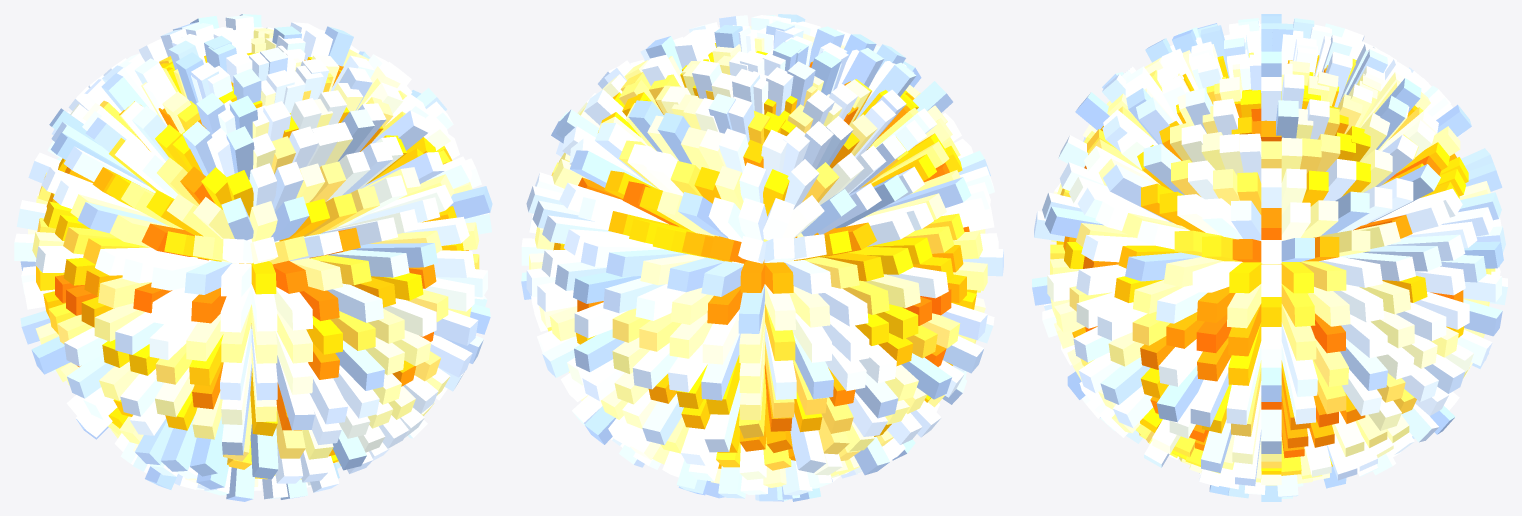
File: 無標題.glb
3 renders of one model, left to right at view 1: azimuth 30°, elevation 25°; view 2: azimuth 150°, elevation 25°; view 3: azimuth 270°, elevation 25°, orthographic.
Visible parts, largest first — view 1: 物件_343, 物件_344, 物件_46, 物件_286, 物件_431, 物件_226, 物件_26, 物件_38, 物件_345, 物件_98, 物件_194, 物件_506 (+164 smaller); view 2: 物件_128, 物件_49, 物件_88, 物件_375, 物件_224, 物件_57, 物件_504, 物件_240, 物件_437, 物件_18, 物件_217, 物件_379 (+160 smaller); view 3: 物件_698, 物件_678, 物件_626, 物件_692, 物件_655, 物件_697, 物件_686, 物件_687, 物件_704, 物件_716, 物件_587, 物件_603 (+149 smaller).
Part boxes in pixels (bbox=[...]): 物件_343: bbox=[335, 340, 384, 390]; 物件_344: bbox=[327, 283, 383, 322]; 物件_46: bbox=[149, 313, 197, 359]; 物件_286: bbox=[309, 365, 347, 424]; 物件_431: bbox=[328, 250, 409, 277]; 物件_226: bbox=[276, 355, 314, 430]; 物件_26: bbox=[115, 312, 163, 354]; 物件_38: bbox=[120, 369, 163, 416]; 物件_345: bbox=[333, 365, 379, 418]; 物件_98: bbox=[160, 414, 196, 471]; 物件_194: bbox=[250, 424, 278, 479]; 物件_506: bbox=[383, 298, 436, 336]; 物件_128: bbox=[790, 412, 826, 472]; 物件_49: bbox=[822, 315, 869, 361]; 物件_88: bbox=[793, 334, 833, 399]; 物件_375: bbox=[642, 393, 683, 444]; 物件_224: bbox=[701, 333, 740, 400]; 物件_57: bbox=[818, 286, 868, 326]; 物件_504: bbox=[574, 329, 624, 371]; 物件_240: bbox=[704, 380, 740, 452]; 物件_437: bbox=[606, 249, 688, 276]; 物件_18: bbox=[901, 353, 951, 399]; 物件_217: bbox=[702, 309, 739, 364]; 物件_379: bbox=[632, 343, 677, 389]; 物件_698: bbox=[1190, 358, 1230, 427]; 物件_678: bbox=[1156, 365, 1203, 422]; 物件_626: bbox=[1100, 357, 1150, 404]; 物件_692: bbox=[1340, 339, 1387, 390]; 物件_655: bbox=[1125, 252, 1201, 281]; 物件_697: bbox=[1341, 314, 1387, 358]; 物件_686: bbox=[1158, 339, 1202, 386]; 物件_687: bbox=[1156, 285, 1207, 323]; 物件_704: bbox=[1226, 341, 1261, 424]; 物件_716: bbox=[1281, 322, 1317, 396]; 物件_587: bbox=[1081, 235, 1153, 262]; 物件_603: bbox=[1076, 264, 1126, 295].
Size of the model in its own units: 27.11 by 27.51 by 27.19.
